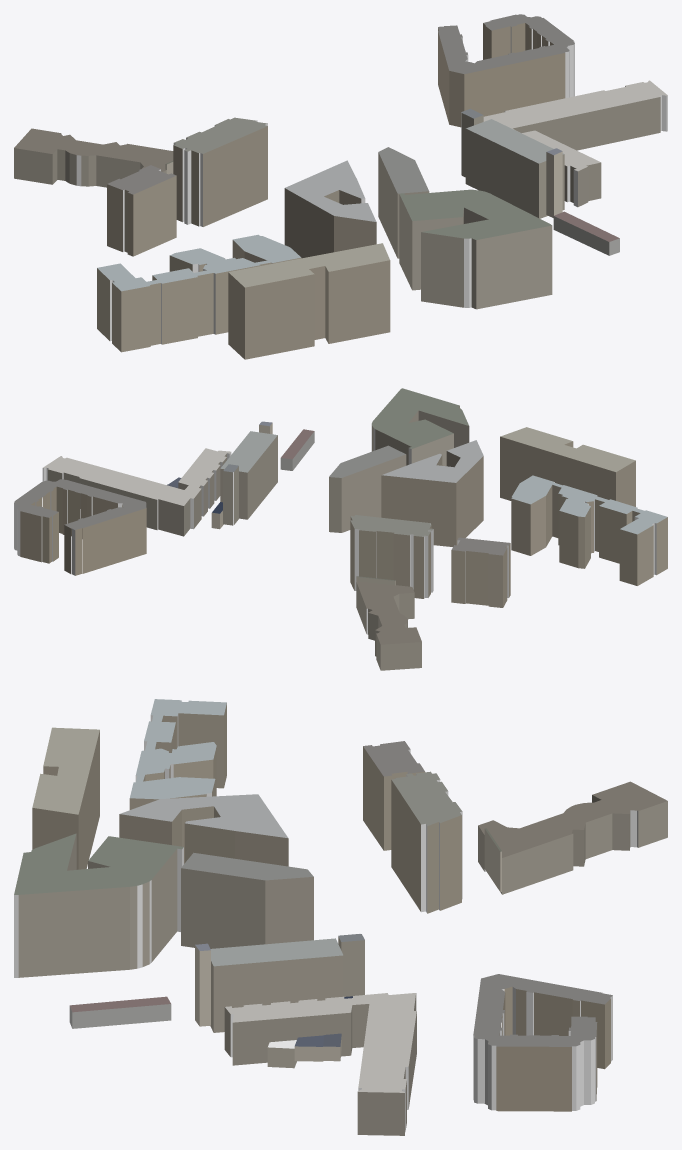
3 views of the same model, one above another, from view 1: azimuth 30°, elevation 25°; view 2: azimuth 150°, elevation 25°; view 3: azimuth 270°, elevation 25° (orthographic). The views are drawn at different scales.
Parts seen in each view (by area): view 1: tuile; view 2: tuile; view 3: tuile.
Boxes of the visible parts, x1=… form: tuile: x1=14, y1=14, x2=667, y2=359; tuile: x1=14, y1=388, x2=667, y2=670; tuile: x1=14, y1=699, x2=667, y2=1135.
Bounding box in the file's own units: 339 × 42.12 × 253.
